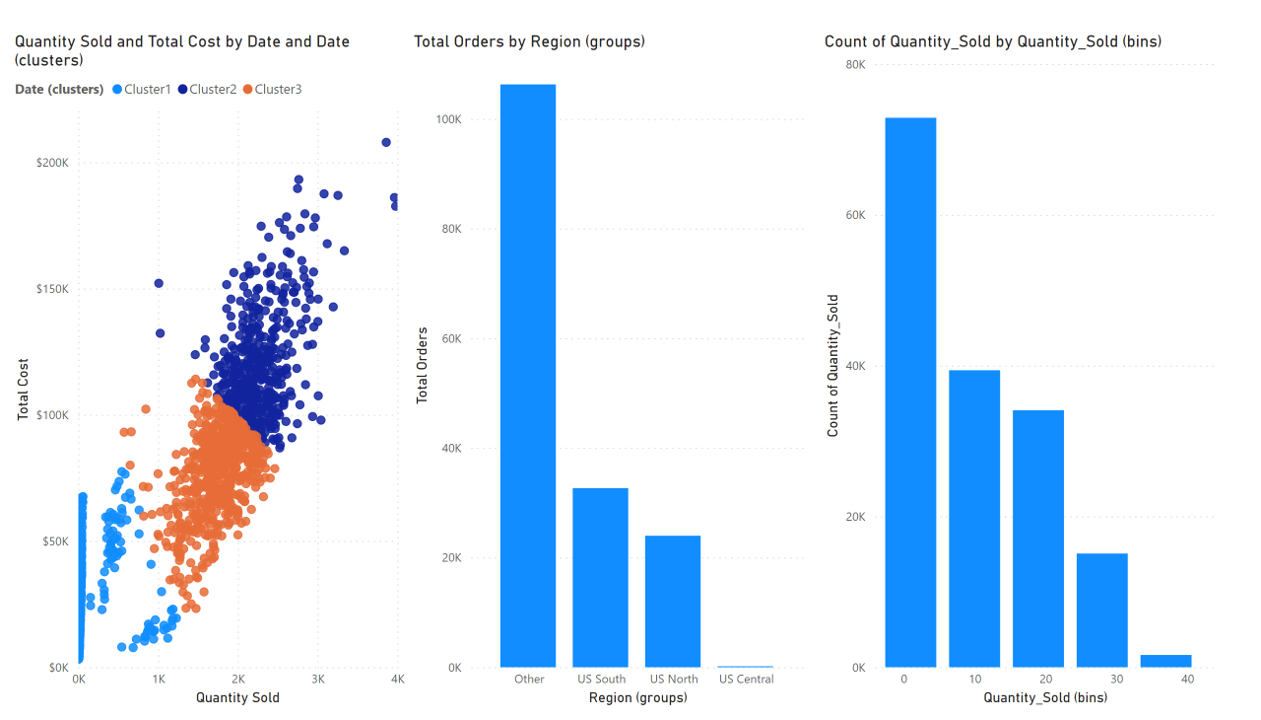

This screenshot's page, from the dashboard's own definition file:
{"tool":"powerbi","page":{"name":"Clustering & Grouping","canvas":[1280,720],"ordinal":3},"visuals":[{"type":"scatterChart","fields":{"Y":["Maven Cycles Sales.Total Cost"],"X":["Maven Cycles Sales.Quantity Sold"],"Category":["Maven Cycles Calendar.Date"],"Series":["Maven Cycles Calendar.Date (clusters)"]},"box":[9.8,31.8,405.3,688.2],"z":0},{"type":"clusteredColumnChart","fields":{"Y":["Maven Cycles Sales.Total Orders"],"Category":["Maven Cycles Regions.Region (groups)"]},"box":[415.1,31.8,406.5,688.2],"z":1},{"type":"clusteredColumnChart","fields":{"Y":["CountNonNull(Maven Cycles Sales.Quantity_Sold)"],"Category":["Maven Cycles Sales.Quantity_Sold (bins)"]},"box":[832,32,407,688],"z":2}]}

Visuals, with their boxes in screenshot pixels (x1, y1, x2, y2), scaled from the page's 1280x720 canvas onto the 1261x720 screenshot:
scatterChart - Maven Cycles Sales.Total Cost x Maven Cycles Sales.Quantity Sold: left=10, top=32, right=409, bottom=719
clusteredColumnChart - Maven Cycles Sales.Total Orders x Maven Cycles Regions.Region (groups): left=409, top=32, right=809, bottom=719
clusteredColumnChart - CountNonNull(Maven Cycles Sales.Quantity_Sold) x Maven Cycles Sales.Quantity_Sold (bins): left=820, top=32, right=1221, bottom=719
